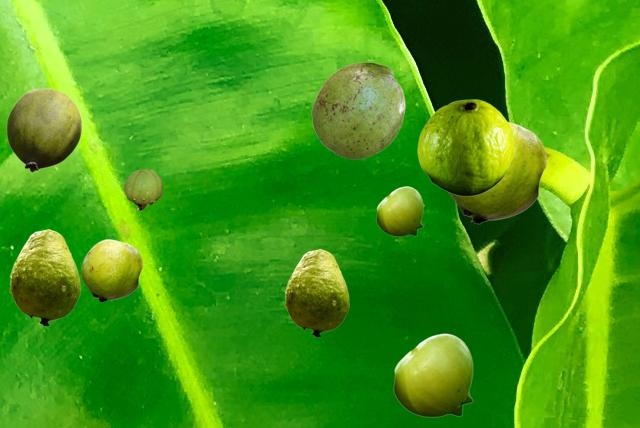guava: (448, 121, 546, 223), (417, 99, 513, 195), (311, 62, 404, 158), (9, 229, 79, 325), (393, 333, 472, 416), (6, 88, 81, 171), (284, 249, 348, 336), (81, 239, 142, 301), (376, 186, 422, 235), (124, 169, 161, 209)
